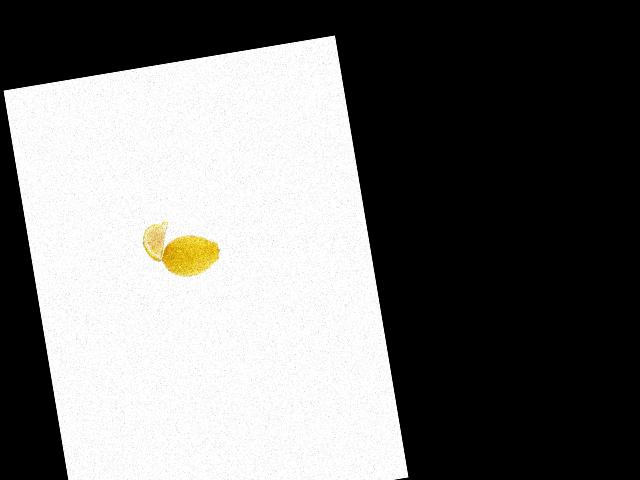lemon: (155, 227, 224, 283)
